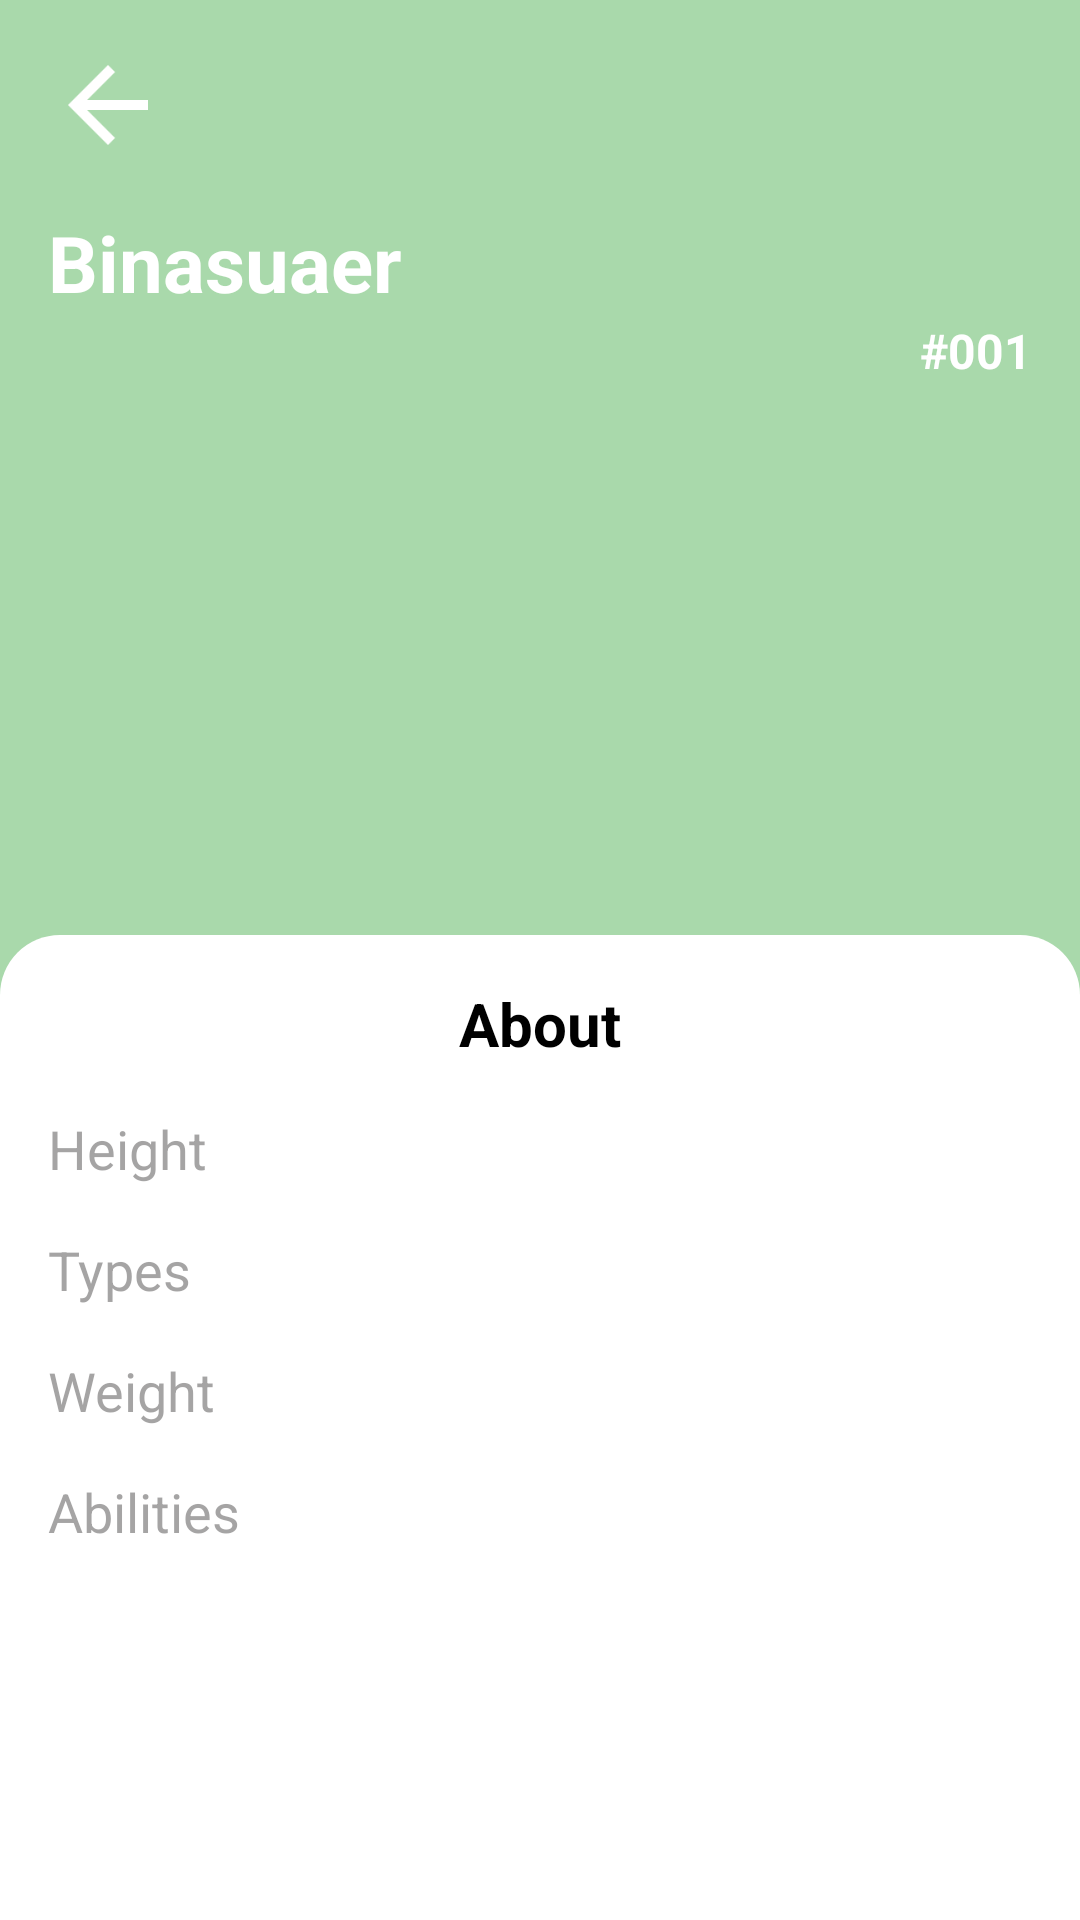

Named icons in this screenshot (1080×1920) and their bounding boxes, (x1, y1, x2, y2):
arrow back: (68, 65, 148, 145)
